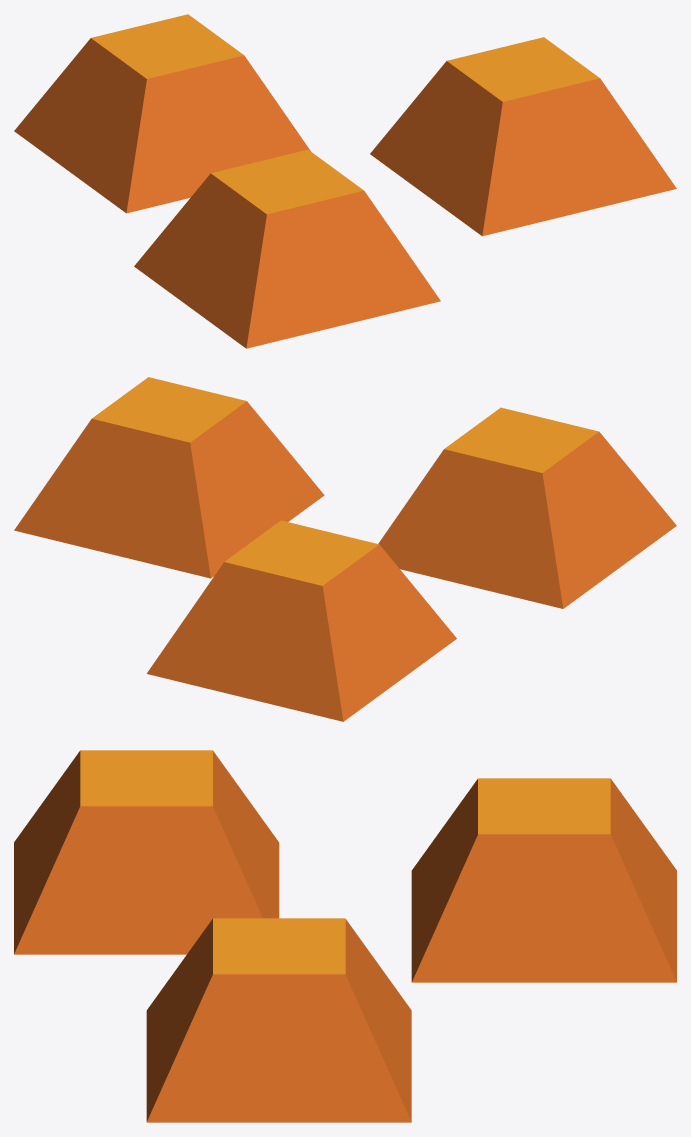
The model's file is Pumpkin_001-1.fbx.
The picture shows the model from 3 angles, top to bottom: view 1: azimuth 30°, elevation 25°; view 2: azimuth 150°, elevation 25°; view 3: azimuth 270°, elevation 25°; orthographic projection. The views are drawn at different scales.
Parts seen in each view (by area): view 1: Pumpkin_001-1; view 2: Pumpkin_001-1; view 3: Pumpkin_001-1.
Part boxes in pixels (x1,y1,x2,y2): Pumpkin_001-1: [14, 14, 676, 348]; Pumpkin_001-1: [14, 377, 676, 721]; Pumpkin_001-1: [14, 750, 676, 1122].
Size of the model in its own units: 31.25 by 6.25 by 31.25.
1 material, 1 textured.
